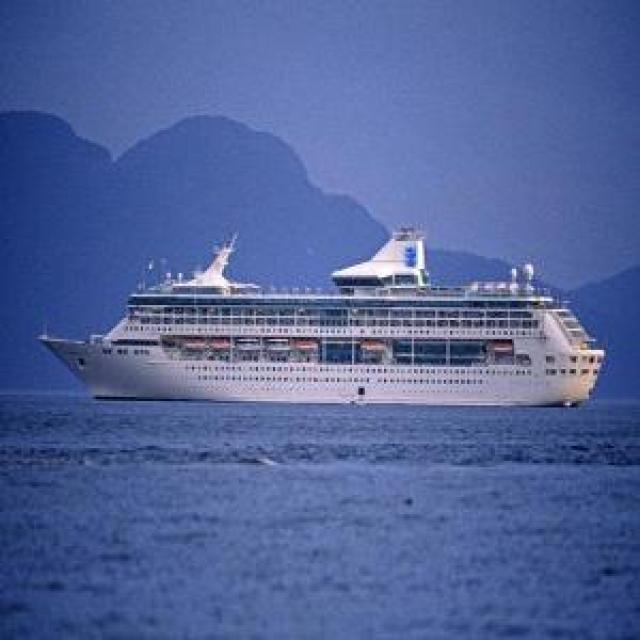passenger ship: (38, 215, 606, 409)
